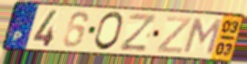4: (31, 7, 59, 48)
6: (61, 10, 90, 49)
M: (181, 17, 224, 57)
O: (92, 11, 125, 53)
Z: (117, 12, 159, 53), (155, 15, 194, 55)
